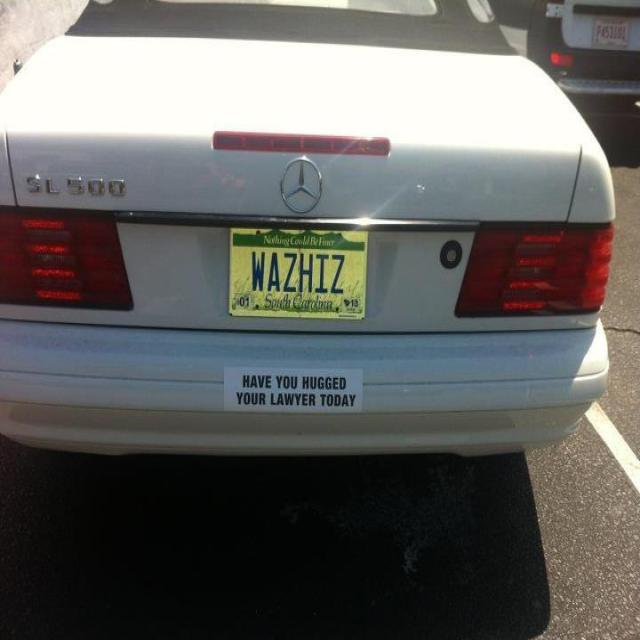placa: (244, 246, 357, 296)
